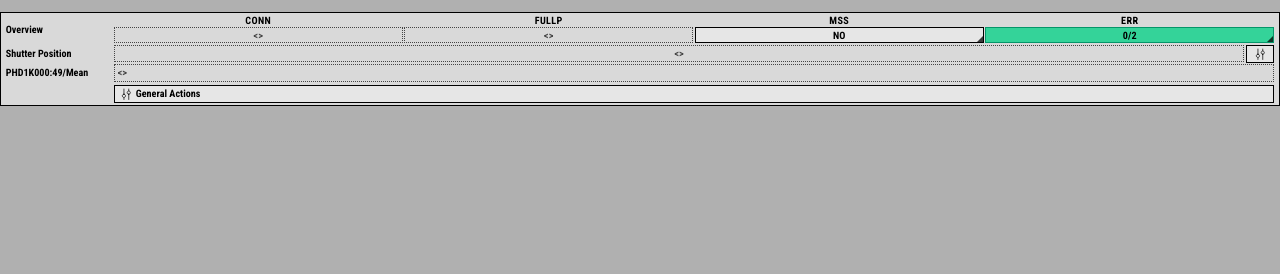
Test: GeneralSection › MSS/module-error rows are neutral (not ok/err coloured) when severity is none, showing the value
Click the button with aria-label "Toggle MSS detail": (839, 35) 695,27 -> 984,43
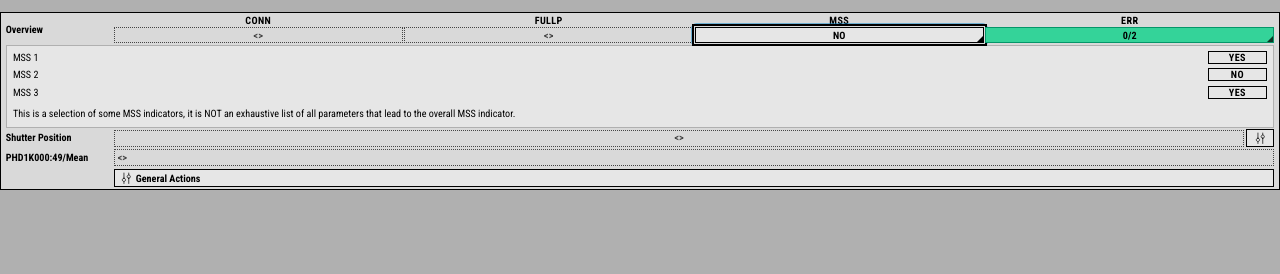
Check: the text "YES" in the row of "MSS 1" is shown, box 1229,52 -> 1246,62
Check: the text "NO" in the row of "MSS 2" is shown, box 1231,69 -> 1244,80
Click the button named "Toggle module errors detail": (1130, 35) 985,27 -> 1274,43
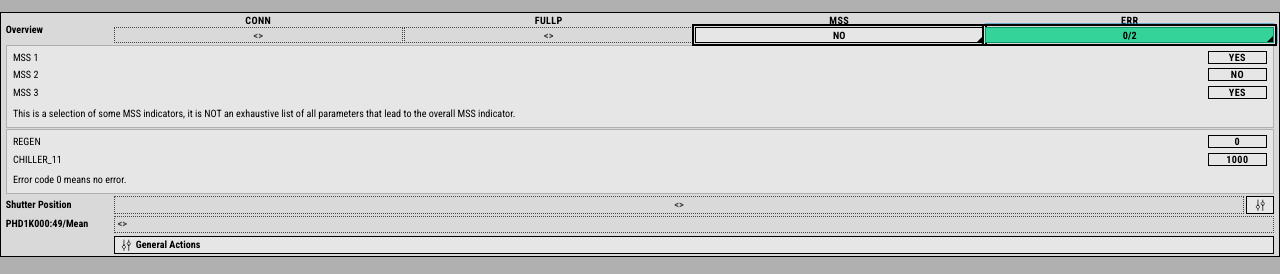
Check: the list item "REGEN" shows "0", box 1235,136 -> 1240,147
Check: the list item "CHILLER_11" shows "1000", box 1226,154 -> 1248,165
